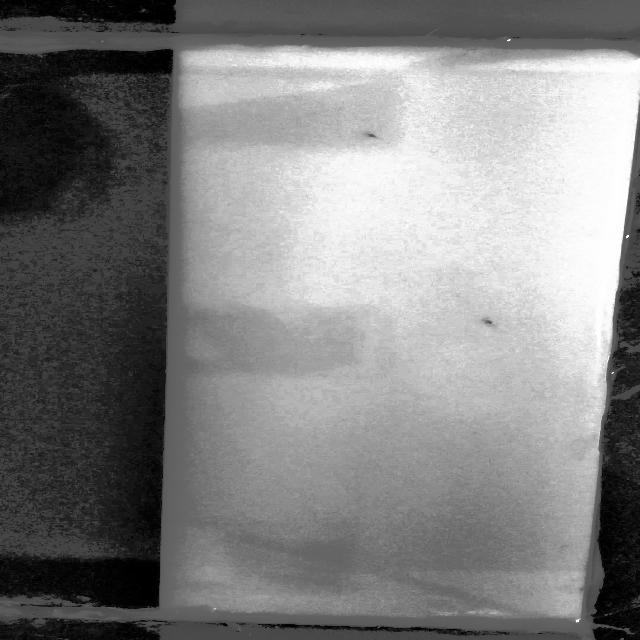shrimp: (480, 316, 505, 332), (362, 130, 388, 140)
